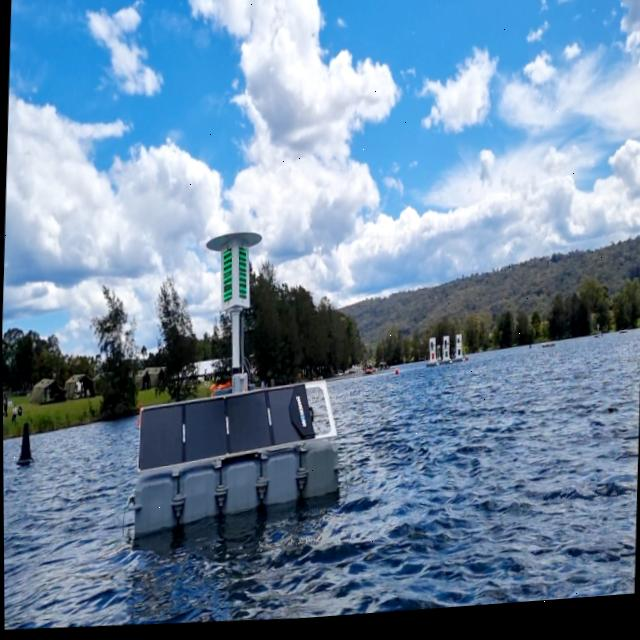led: (236, 250, 248, 306), (221, 252, 233, 307)
